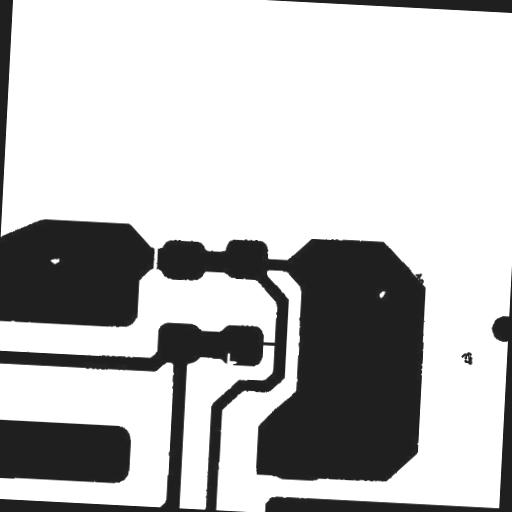copper: (452, 344, 480, 372)
mousebite: (218, 345, 244, 373)
open: (146, 237, 166, 278)
pin-hole: (42, 250, 67, 272), (371, 284, 392, 304)
short: (253, 334, 284, 354)
spur: (406, 265, 432, 293)
